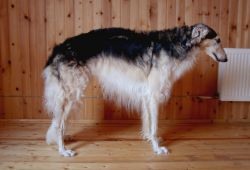borzoi: (33, 20, 228, 162)
